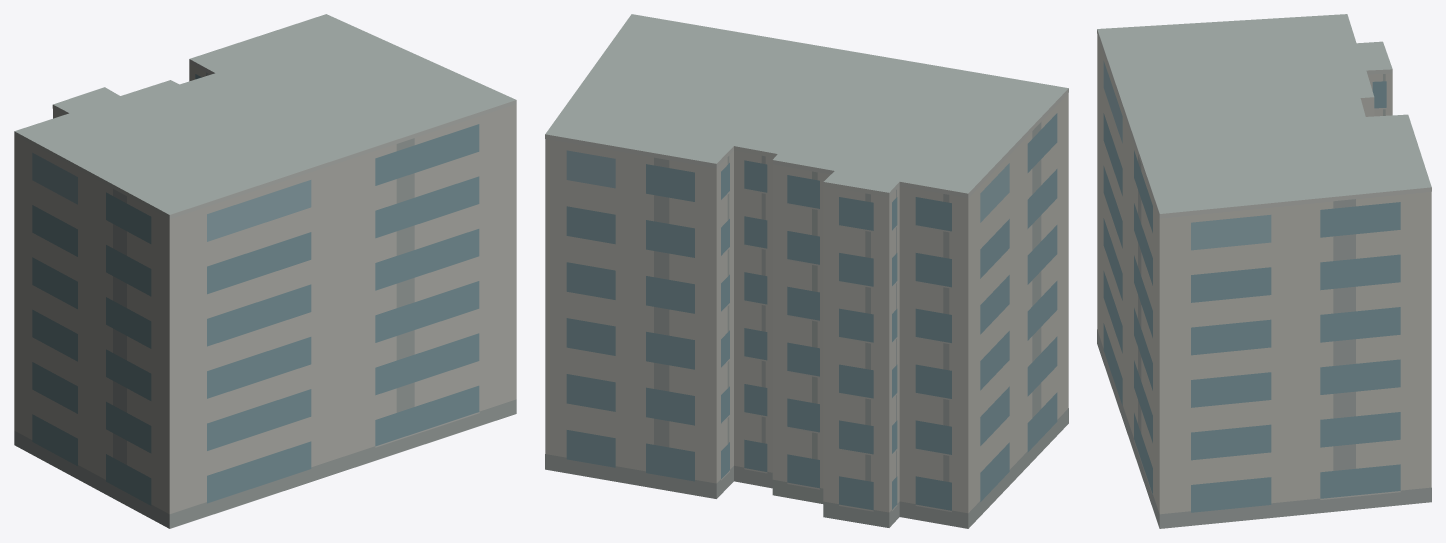
Rendered from survey-upis-32840590.glb.
3 renders of one model, left to right at view 1: azimuth 30°, elevation 25°; view 2: azimuth 150°, elevation 25°; view 3: azimuth 270°, elevation 25°, orthographic. The views are drawn at different scales.
Parts seen in each view (by area): view 1: survey-upis-32840590.tmp; view 2: survey-upis-32840590.tmp; view 3: survey-upis-32840590.tmp.
Boxes of the visible parts, x1,y1,x2,y2 form: survey-upis-32840590.tmp: [14, 14, 516, 528]; survey-upis-32840590.tmp: [545, 14, 1068, 528]; survey-upis-32840590.tmp: [1097, 14, 1431, 528].
Size of the model in its own units: 24.54 by 18 by 17.35.
